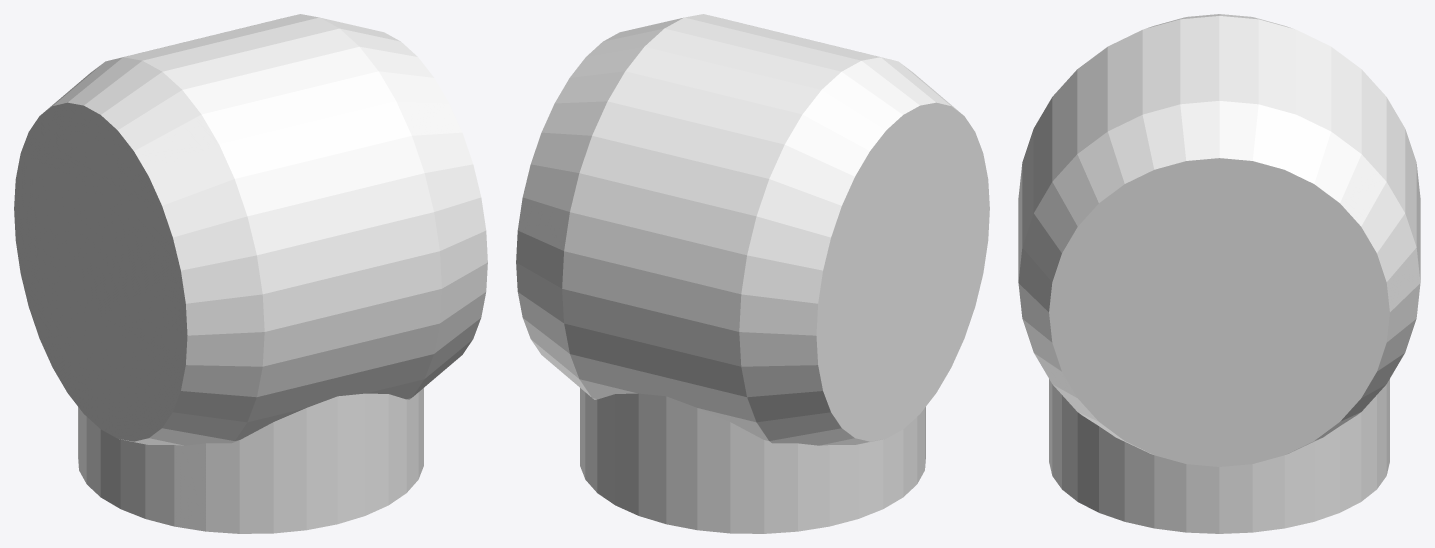
The model's file is link_joint_v2_1.dae.
The picture shows the model from 3 angles, left to right: view 1: azimuth 30°, elevation 25°; view 2: azimuth 150°, elevation 25°; view 3: azimuth 270°, elevation 25°; orthographic projection.
Visible parts, largest first — view 1: Cylinder; view 2: Cylinder; view 3: Cylinder.
Boxes of the visible parts, box(x1,y1,x2,y2) form: Cylinder: box(14, 14, 487, 533); Cylinder: box(516, 14, 989, 533); Cylinder: box(1018, 14, 1420, 533).
Size of the model in its own units: 0.35 by 0.4128 by 0.4572.
1 material, 1 textured.
